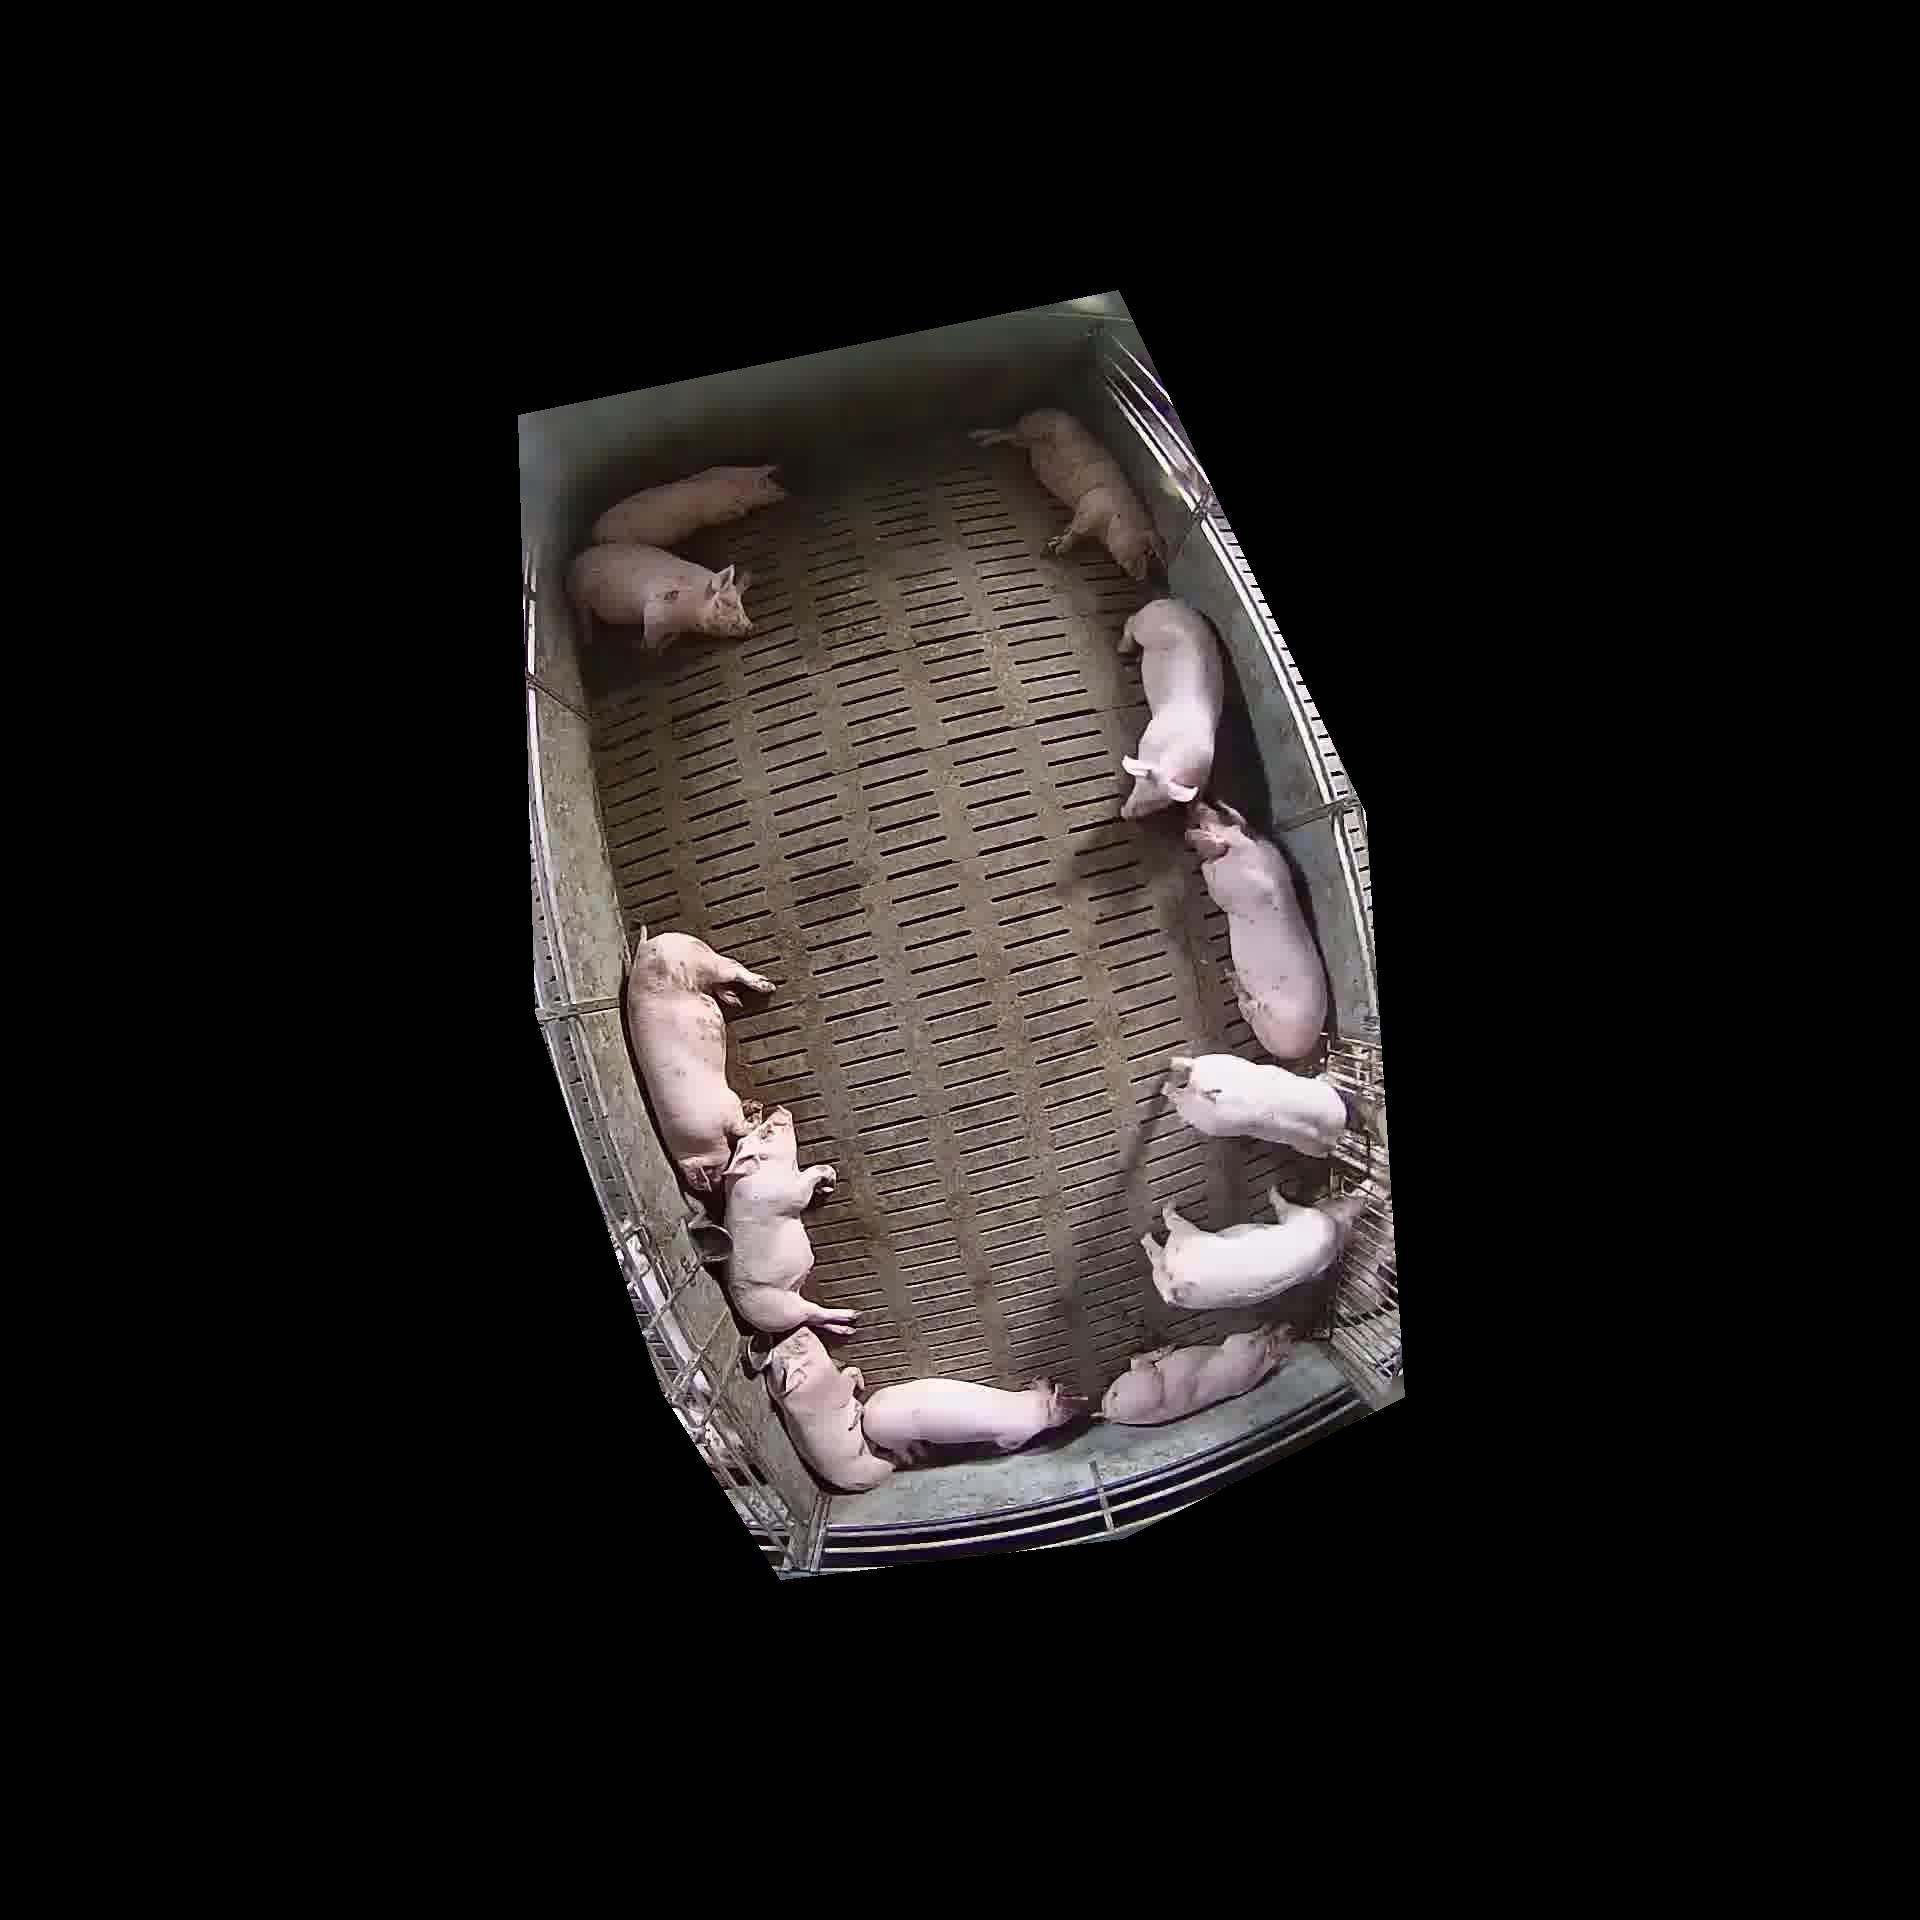pig: (626, 927, 774, 1190), (1185, 802, 1327, 1058), (971, 410, 1155, 578), (724, 1108, 856, 1333), (1143, 1189, 1363, 1308), (1118, 598, 1224, 818), (761, 1326, 891, 1489), (570, 543, 751, 651), (858, 1377, 1087, 1461), (1162, 1053, 1347, 1155), (1101, 1326, 1291, 1424), (593, 464, 784, 547)
